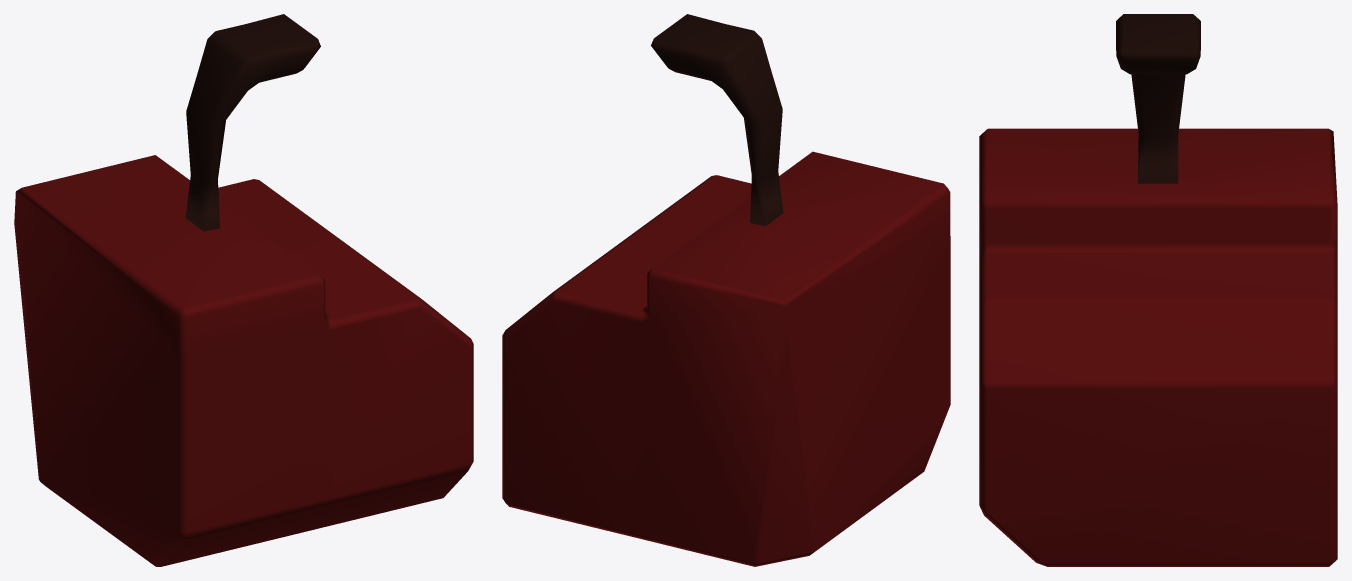
Rendered from SM_Cherry.fbx.
3 views of the same model, side by side, from view 1: azimuth 30°, elevation 25°; view 2: azimuth 150°, elevation 25°; view 3: azimuth 270°, elevation 25° (orthographic). The views are drawn at different scales.
Parts seen in each view (by area): view 1: SM_Cherry; view 2: SM_Cherry; view 3: SM_Cherry.
Boxes of the visible parts, left/top/right/bottom form: SM_Cherry: left=14, top=14, right=473, bottom=566; SM_Cherry: left=502, top=14, right=950, bottom=566; SM_Cherry: left=979, top=14, right=1337, bottom=566.
Size of the model in its own units: 3.63 by 5.31 by 3.63.
